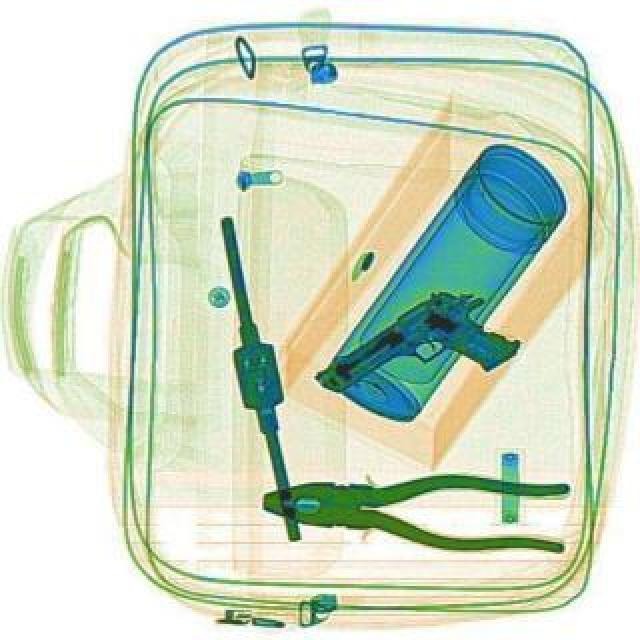gun: (314, 270, 528, 452)
wrench: (262, 466, 572, 552)
